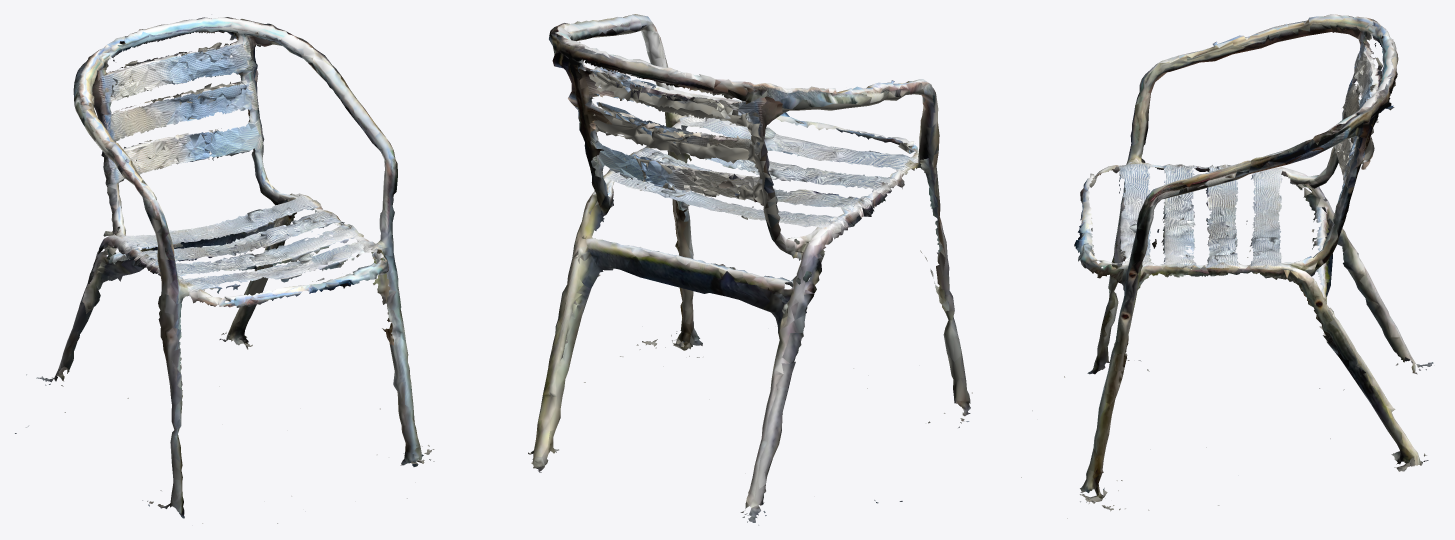
The model's file is OutsideChair.obj.
The picture shows the model from 3 angles, left to right: view 1: azimuth 30°, elevation 25°; view 2: azimuth 150°, elevation 25°; view 3: azimuth 270°, elevation 25°; orthographic projection. The views are drawn at different scales.
Visible parts, largest first — view 1: model_model_material0000, model_model_material0001, model_model_material0002, model_model_material0003; view 2: model_model_material0000, model_model_material0001, model_model_material0002, model_model_material0003, model_model_material0004, model_model_material0006; view 3: model_model_material0000, model_model_material0001, model_model_material0002, model_model_material0003.
Part boxes in pixels (x1,y1,x2,y2): model_model_material0000: (40, 17, 434, 523); model_model_material0001: (15, 17, 434, 523); model_model_material0002: (26, 14, 410, 501); model_model_material0003: (26, 21, 418, 489); model_model_material0000: (529, 14, 972, 522); model_model_material0001: (531, 14, 970, 522); model_model_material0002: (533, 24, 962, 525); model_model_material0003: (528, 25, 966, 504); model_model_material0004: (532, 59, 961, 503); model_model_material0006: (531, 31, 970, 505); model_model_material0000: (1021, 14, 1431, 518); model_model_material0001: (1032, 15, 1433, 502); model_model_material0002: (1081, 21, 1426, 496); model_model_material0003: (1076, 19, 1422, 492).
Bounding box in the file's own units: 3.85 × 3.7 × 3.55.
